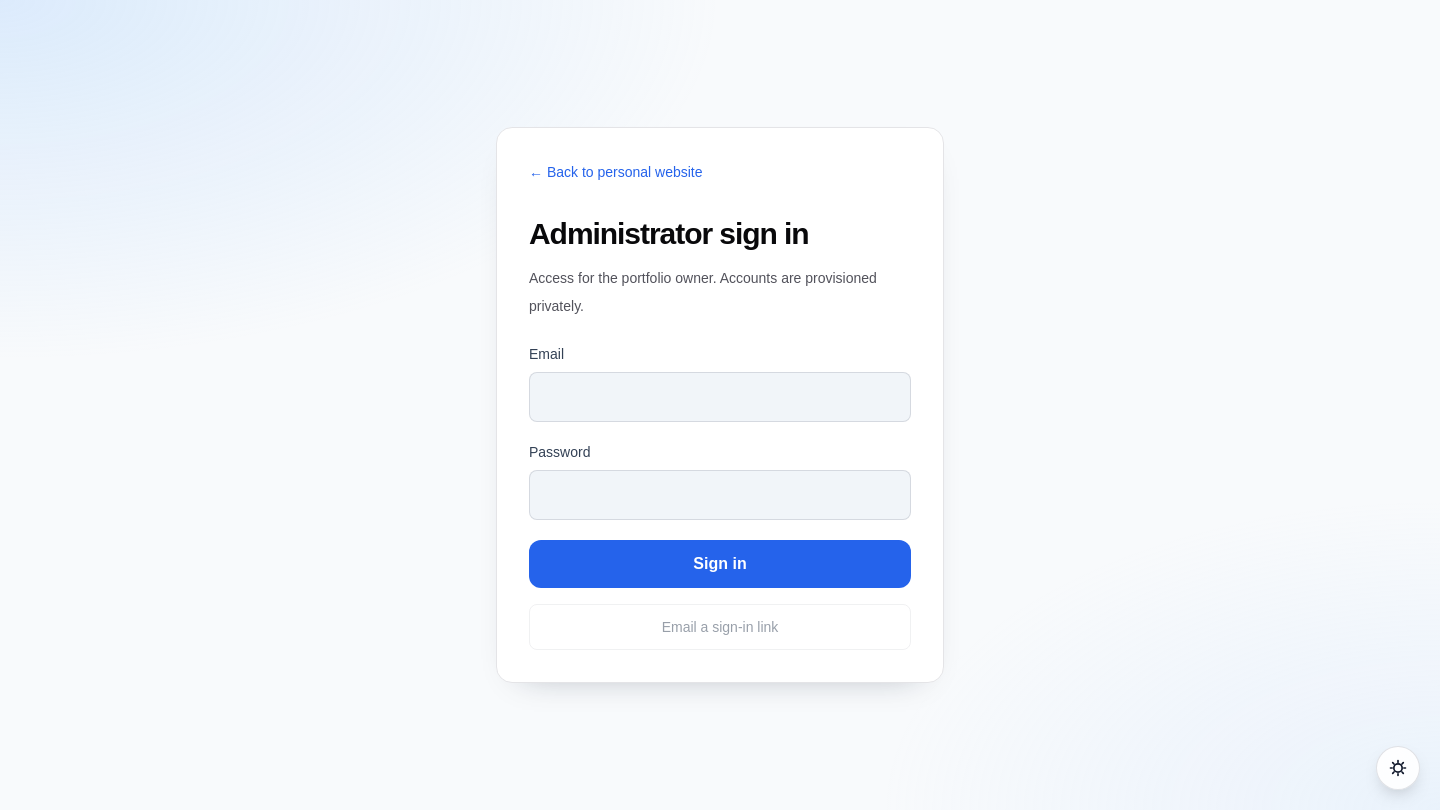
administrator login choices › blocks duplicate password submissions and reports invalid credentials without navigation
This screenshot has width=1440, height=810.
In the field labelled "Email": (720, 397) 529,372 -> 911,422, type "owner@example.com"
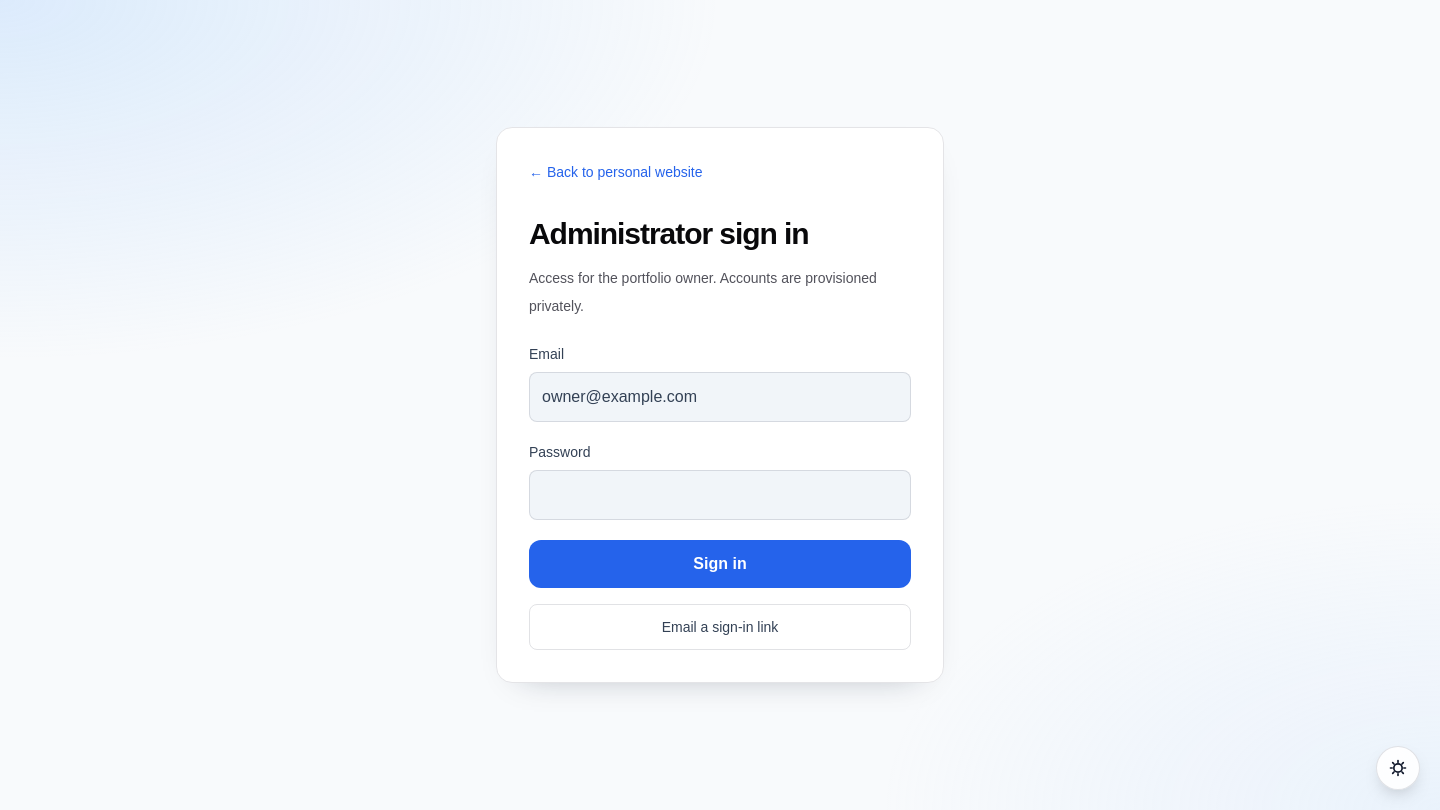
In the password field labelled "Password": (720, 495) 529,470 -> 911,520, type "test-password"
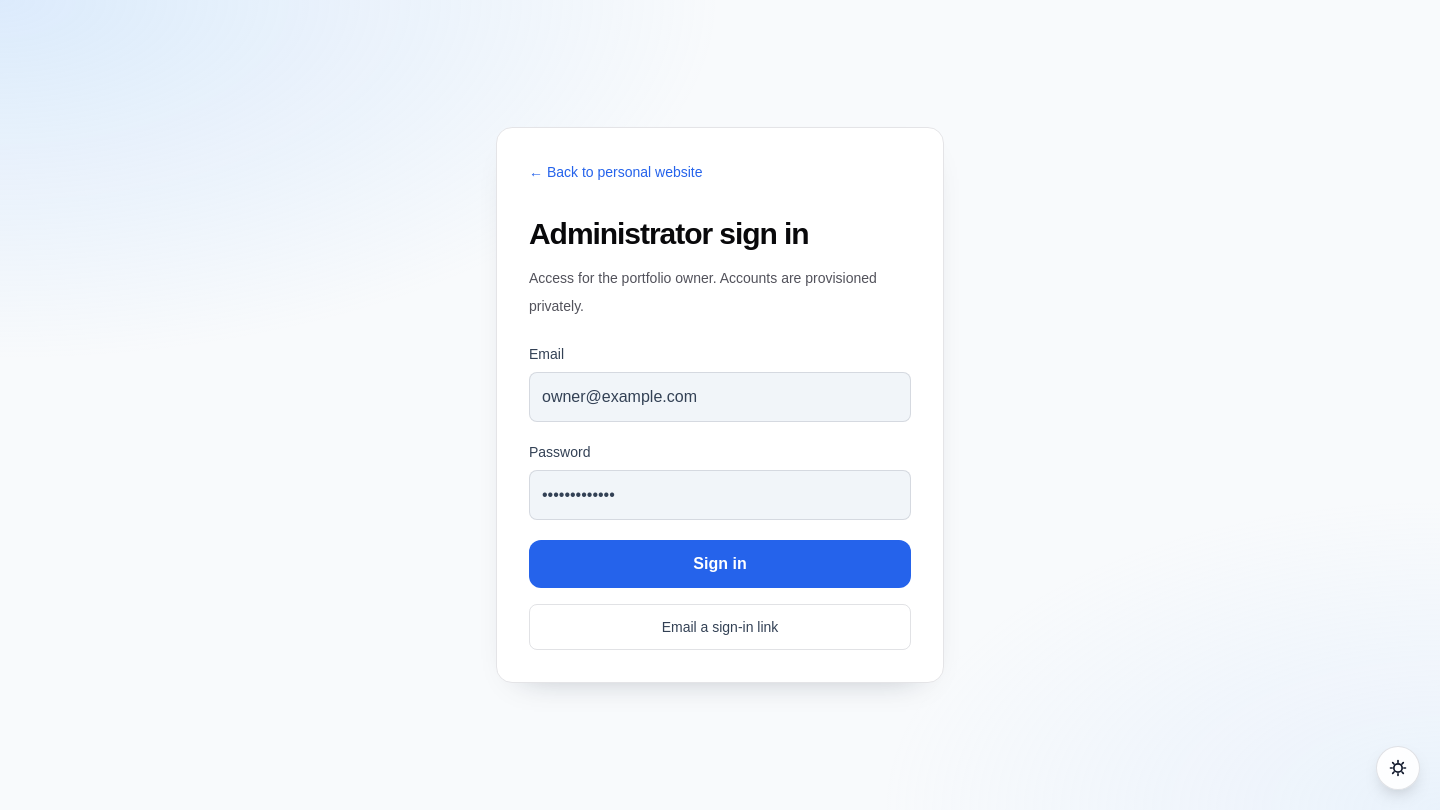
Submit the form "Sign in", box 529,344 -> 911,588
Submit the form "Sign in", box 529,344 -> 911,588
Click the button "Email a sign-in link": (720, 627) 529,604 -> 911,650
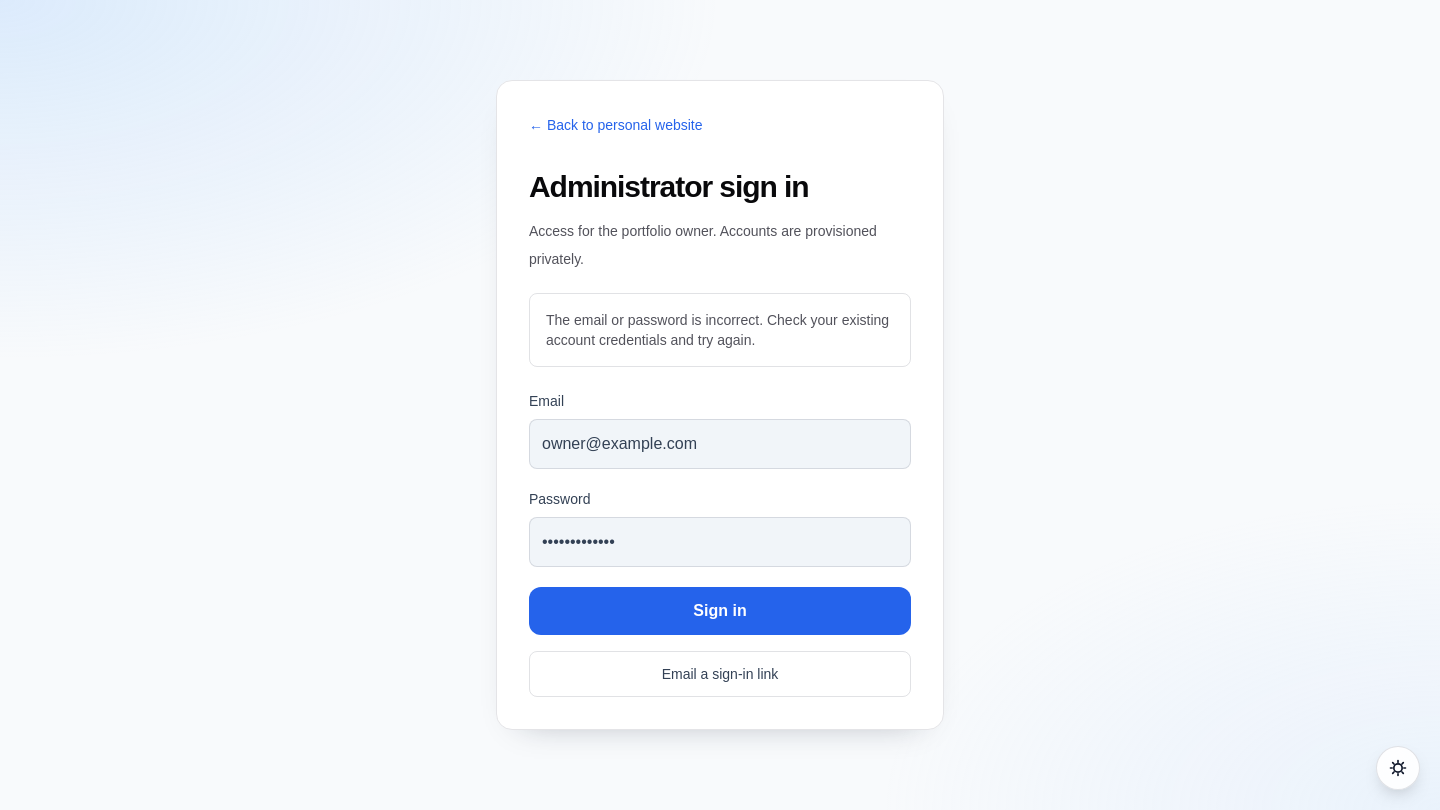
Check: the button "Sign in" is enabled, box 529,587 -> 911,635
Check: the message shows "The email or password is incorrect", box 546,312 -> 889,348
